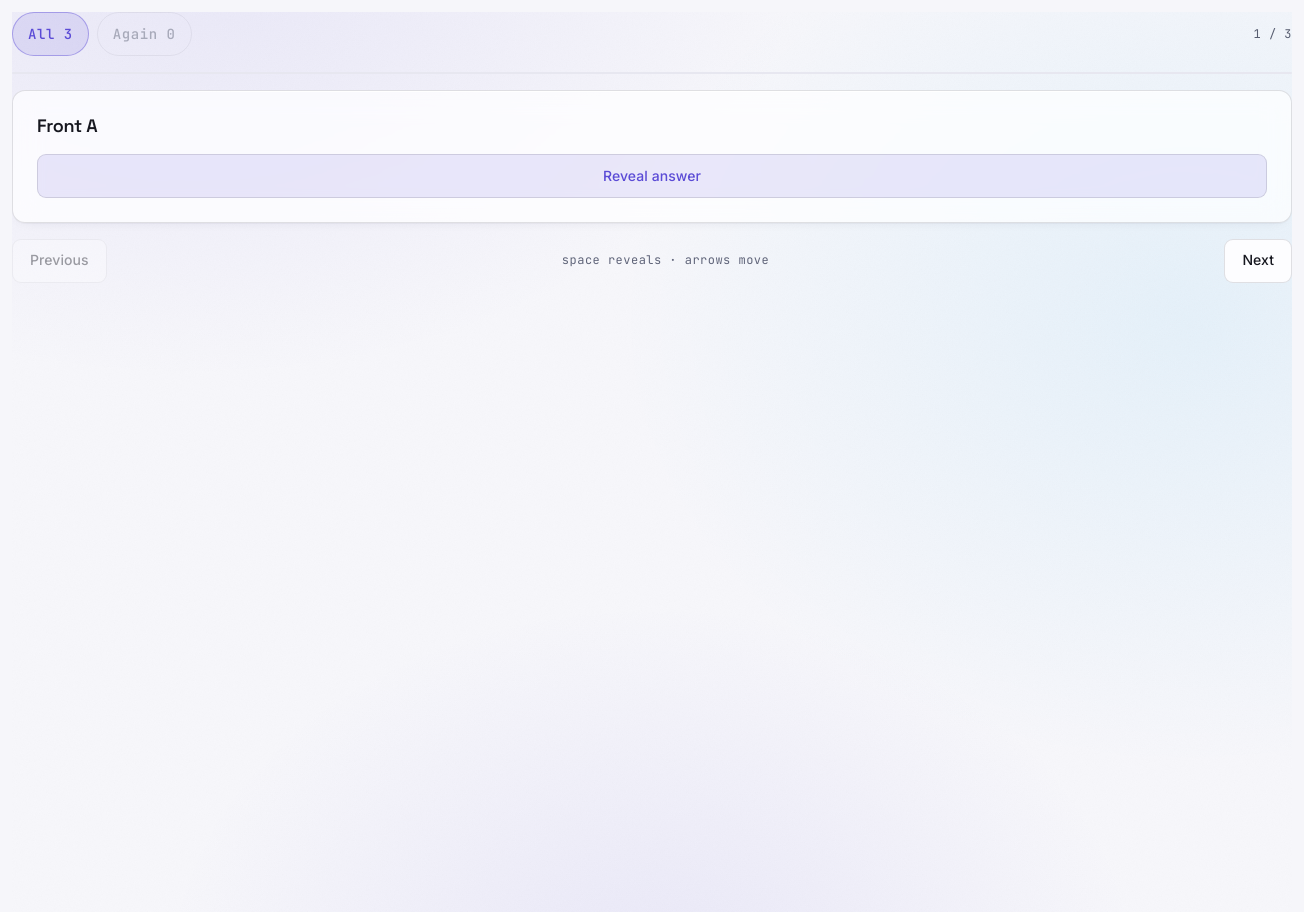
Test case: ReviseDeck › shows position in the deck and moves with the next control
Expected: the text with test id "revise-position" reads "1 / 3", top-left (1254, 26), bottom-right (1292, 42)
Expected: the heading reads "Front A", top-left (37, 114), bottom-right (97, 137)
Click the button "Next". click: (1258, 260)
box: top-left (1224, 238), bottom-right (1292, 282)
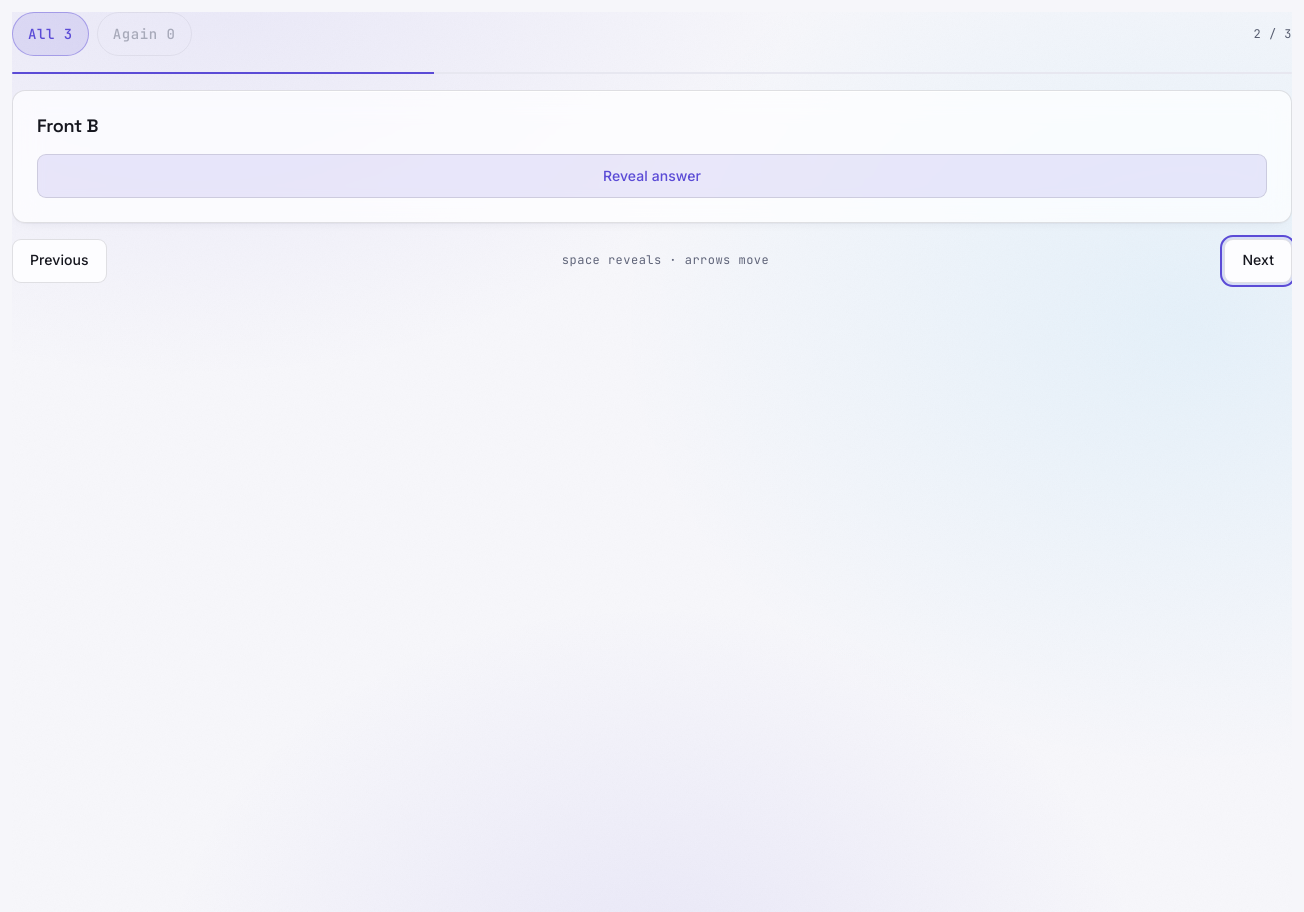
Result: the text with test id "revise-position" reads "2 / 3" at top-left (1254, 26), bottom-right (1292, 42)
Result: the heading reads "Front B" at top-left (37, 114), bottom-right (98, 137)
